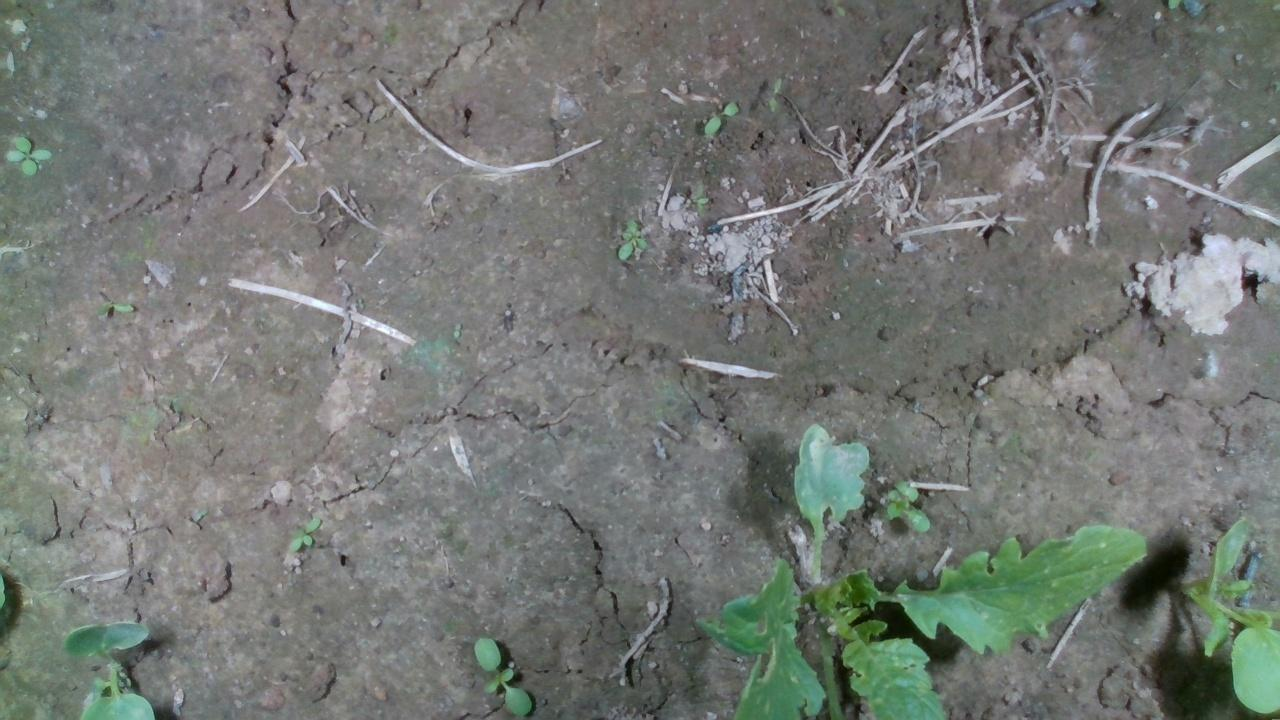weed: (471, 635, 533, 715), (1, 135, 52, 177), (285, 514, 321, 556), (700, 99, 739, 137), (768, 75, 782, 113)
